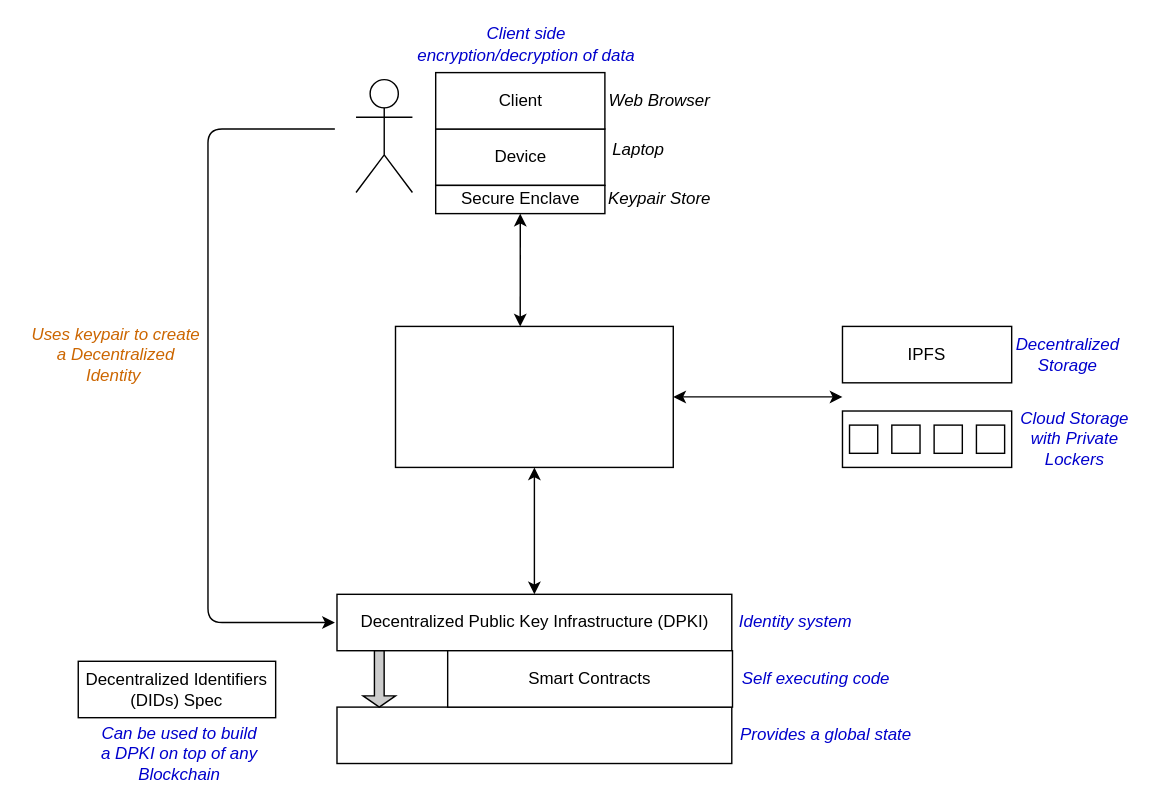
This 1162x808 diagram has some shape labels left out. Here are the shapes that lost their labels. From the top down, the box of each, then its label:
(355, 78, 412, 192): User
(394, 325, 673, 467): Application
(336, 706, 732, 764): Blockchain
